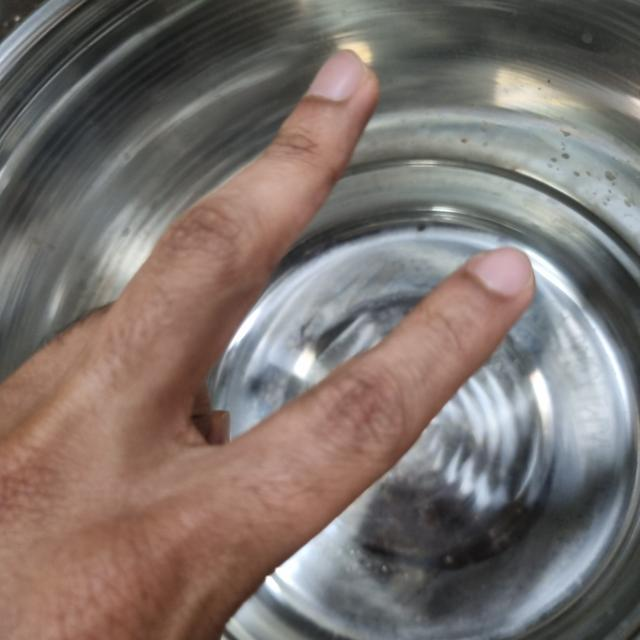Scissors: (0, 57, 529, 638)
